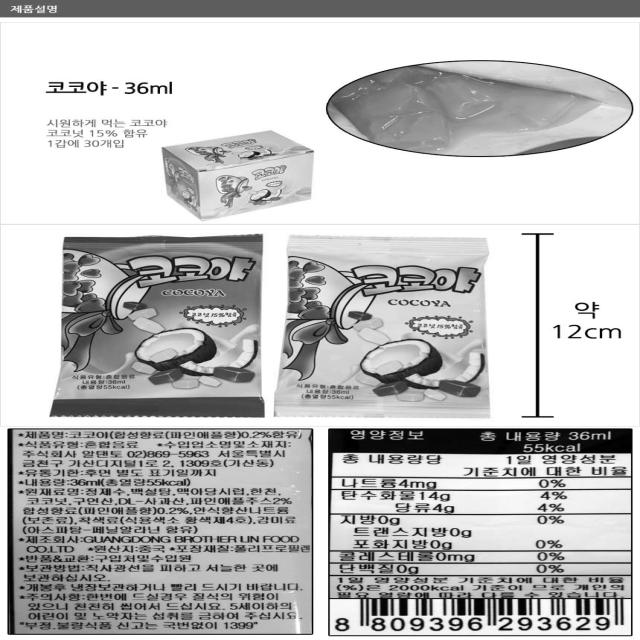Nutrition Label: (320, 419, 640, 607)
